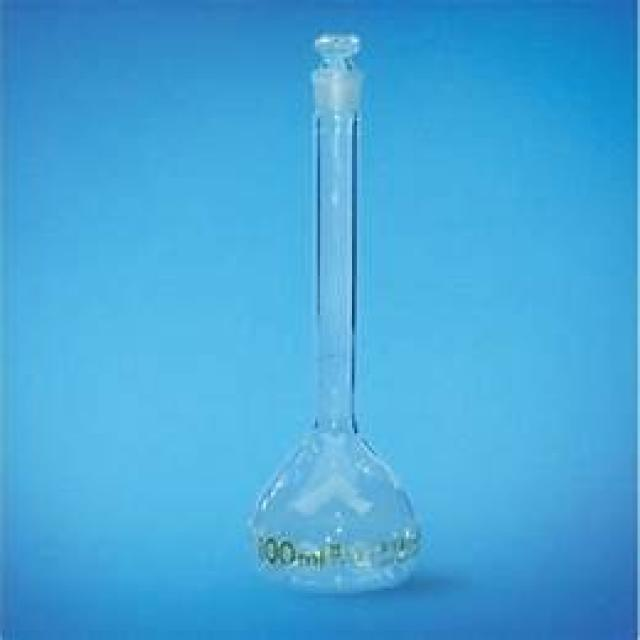Volumetric flask: (240, 38, 431, 592)
